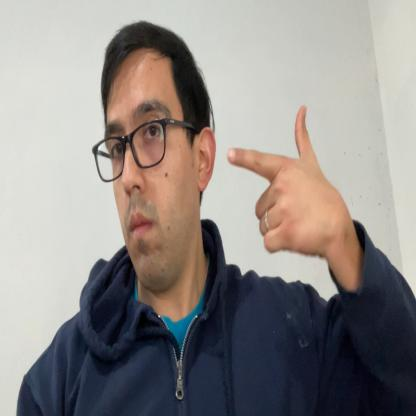G: (228, 102, 328, 261)
